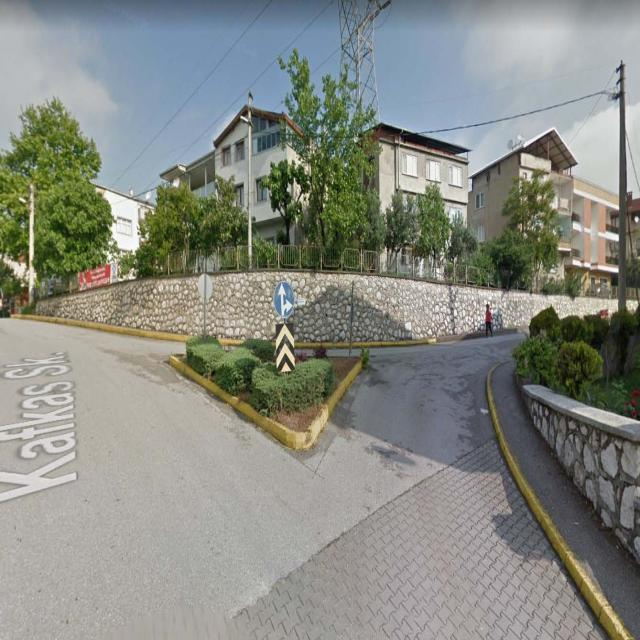ilerisag: (275, 281, 295, 316)
